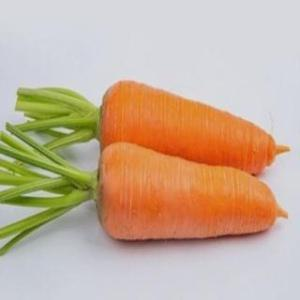carrot: (84, 138, 288, 249), (84, 82, 286, 176)
